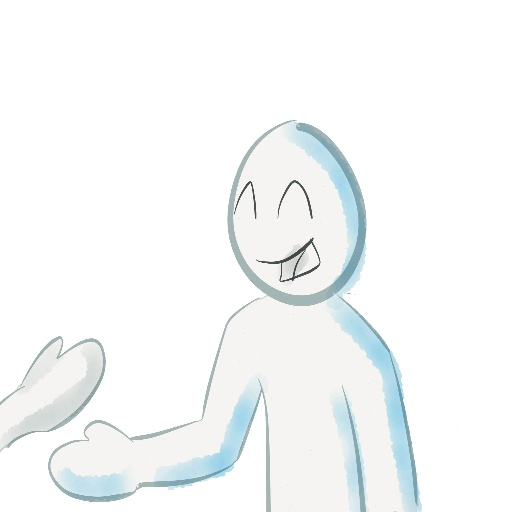hand: (19, 335, 104, 430), (48, 420, 142, 500)
